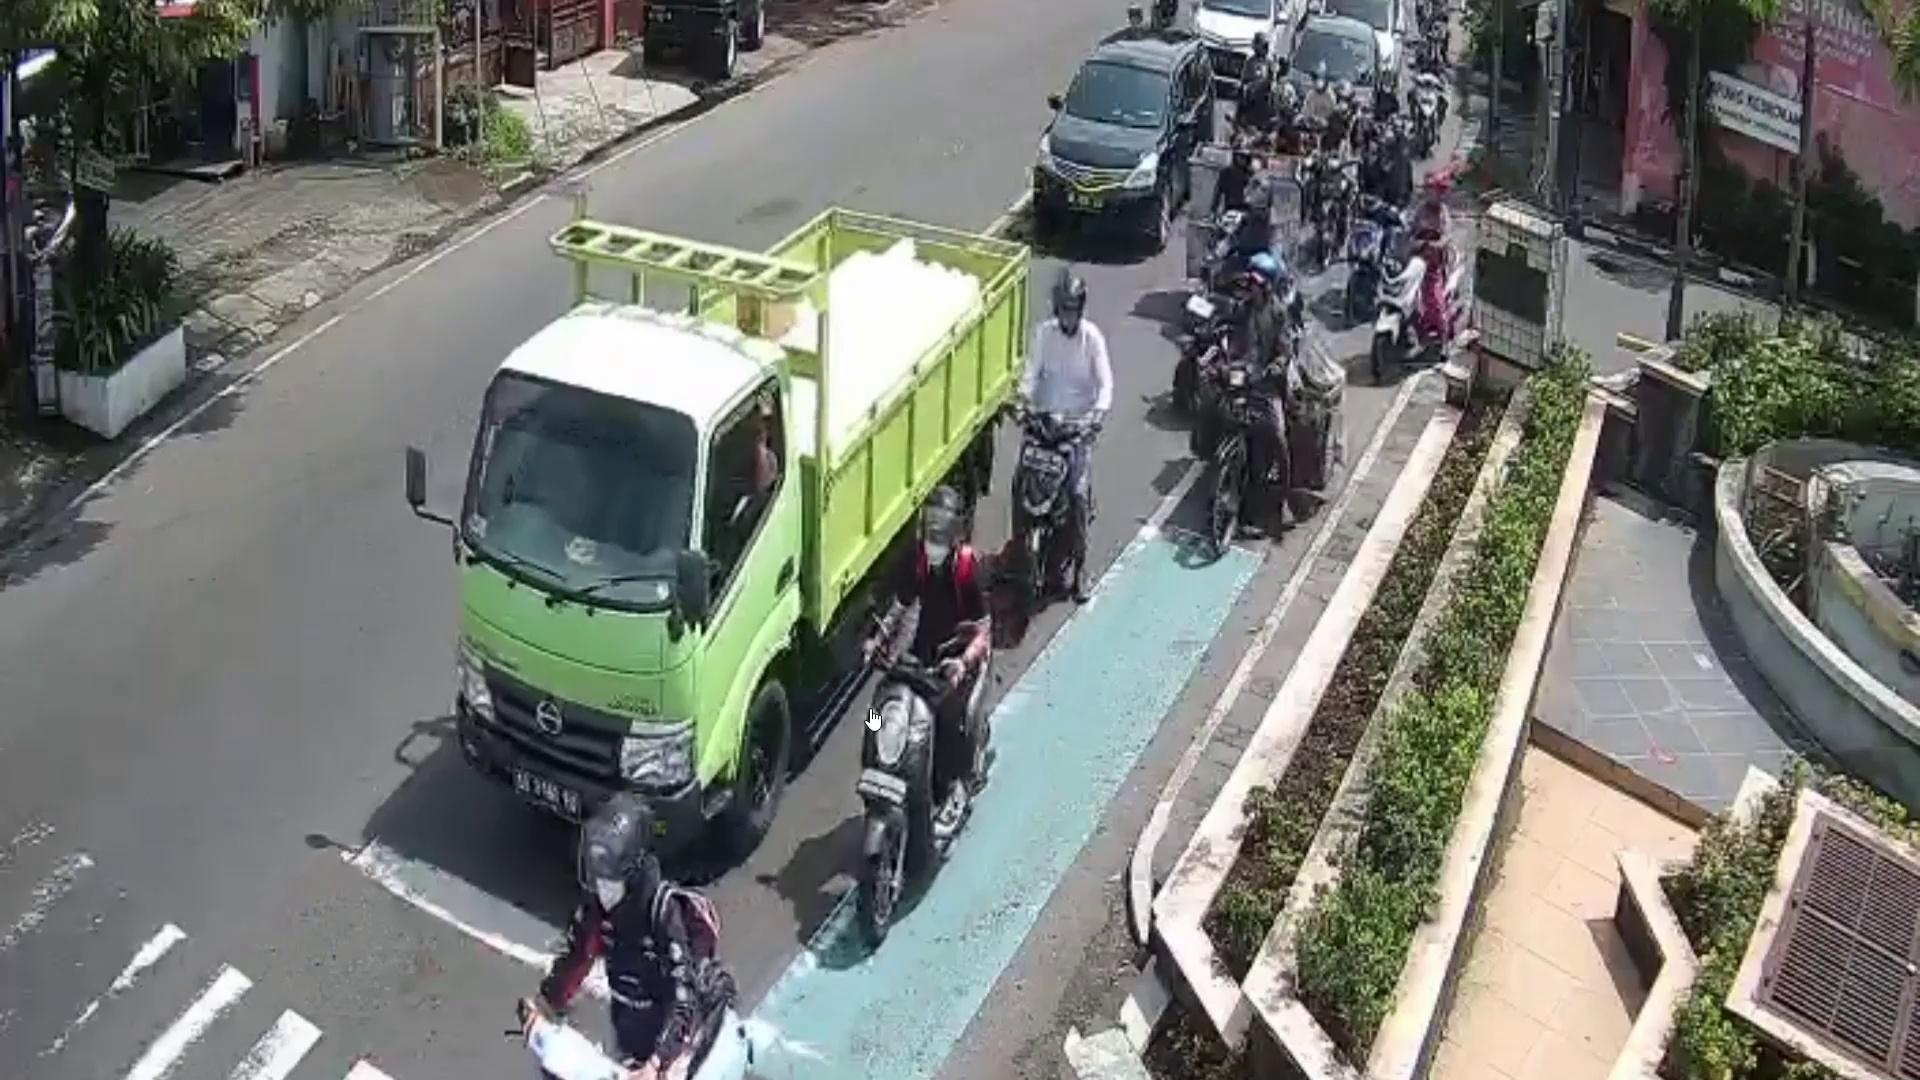car: (1029, 26, 1220, 255), (1280, 18, 1382, 165), (1196, 0, 1311, 94)
motorbike: (852, 638, 1002, 942), (1007, 410, 1104, 618), (1375, 232, 1465, 390), (1209, 364, 1265, 562), (1337, 198, 1391, 322), (1407, 70, 1451, 158)
truck: (456, 204, 1030, 852)
